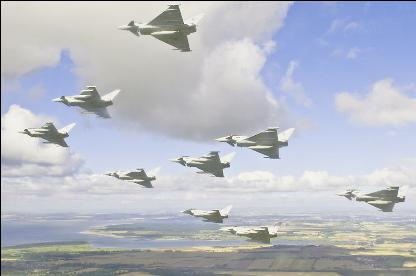E2: (115, 3, 205, 51), (214, 126, 295, 158), (50, 85, 122, 118), (333, 183, 410, 211), (168, 150, 236, 176), (16, 120, 76, 146), (218, 221, 282, 243), (104, 165, 162, 187), (180, 203, 233, 222)
